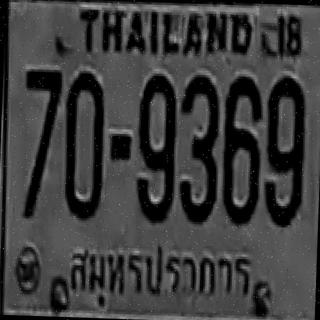N00: (62, 68, 105, 218), (262, 74, 305, 222)
N03: (177, 72, 219, 222)
N06: (220, 73, 260, 221)
N07: (20, 65, 60, 208), (21, 65, 60, 164), (21, 65, 60, 154)
N09: (262, 75, 305, 225), (134, 72, 176, 220)
P57: (55, 231, 257, 311)
